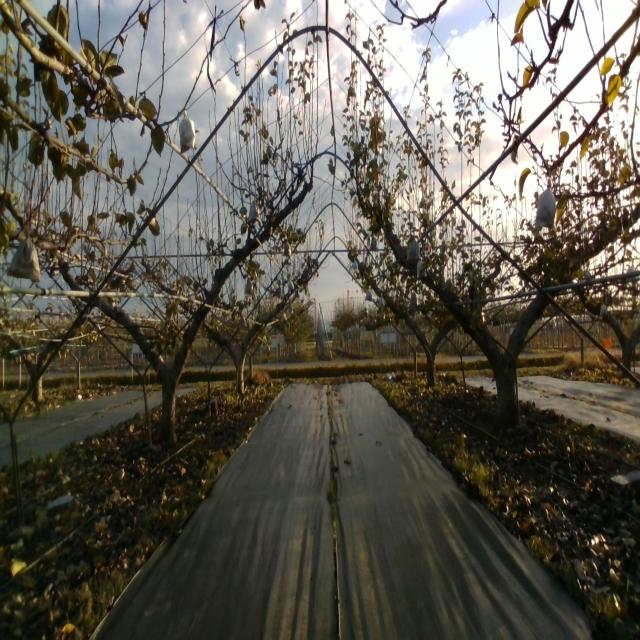pearbags: (535, 178, 557, 231), (178, 109, 196, 154), (405, 237, 421, 263), (248, 196, 262, 224), (417, 259, 427, 277)
